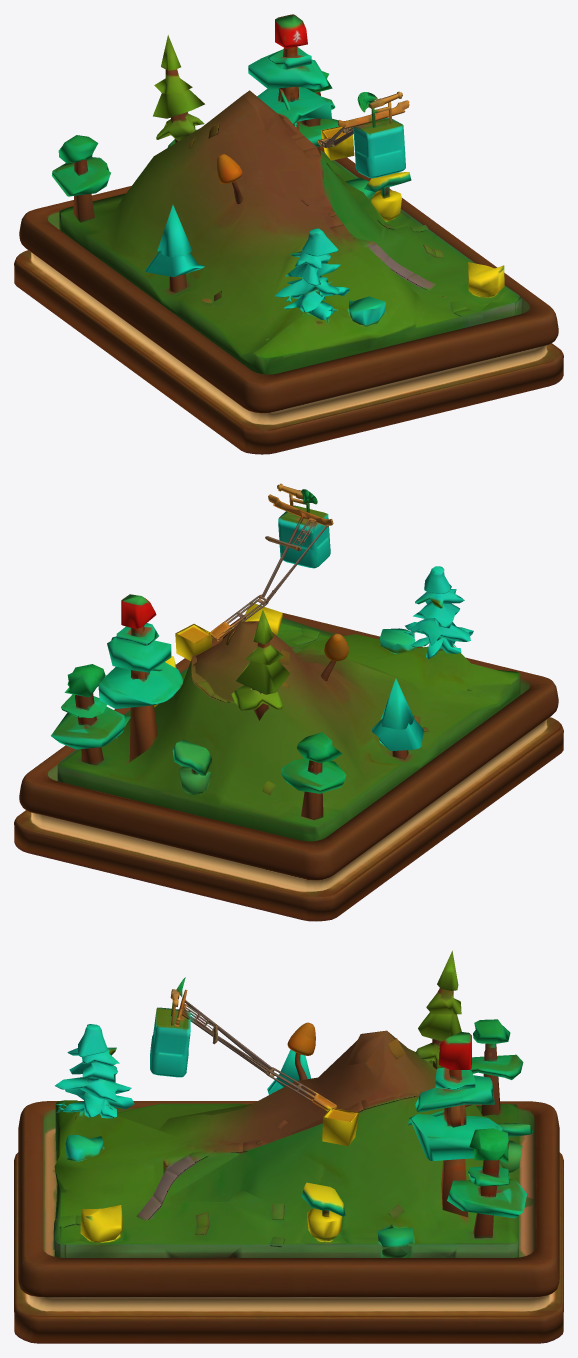
The model's file is takao.glb.
3 views of the same model, one above another, from view 1: azimuth 30°, elevation 25°; view 2: azimuth 150°, elevation 25°; view 3: azimuth 270°, elevation 25° (orthographic). The views are drawn at different scales.
Visible parts, largest first — view 1: tripo_node_b0e2dca0-90c9-4fce-aa8f-7a1480de5069; view 2: tripo_node_b0e2dca0-90c9-4fce-aa8f-7a1480de5069; view 3: tripo_node_b0e2dca0-90c9-4fce-aa8f-7a1480de5069.
Boxes of the visible parts, x1,y1,x2,y2 form: tripo_node_b0e2dca0-90c9-4fce-aa8f-7a1480de5069: (14, 14, 563, 454); tripo_node_b0e2dca0-90c9-4fce-aa8f-7a1480de5069: (14, 483, 563, 921); tripo_node_b0e2dca0-90c9-4fce-aa8f-7a1480de5069: (14, 950, 563, 1343).
Bounding box in the file's own units: 0.7495 × 0.5904 × 0.9995.
1 material, 1 textured.
